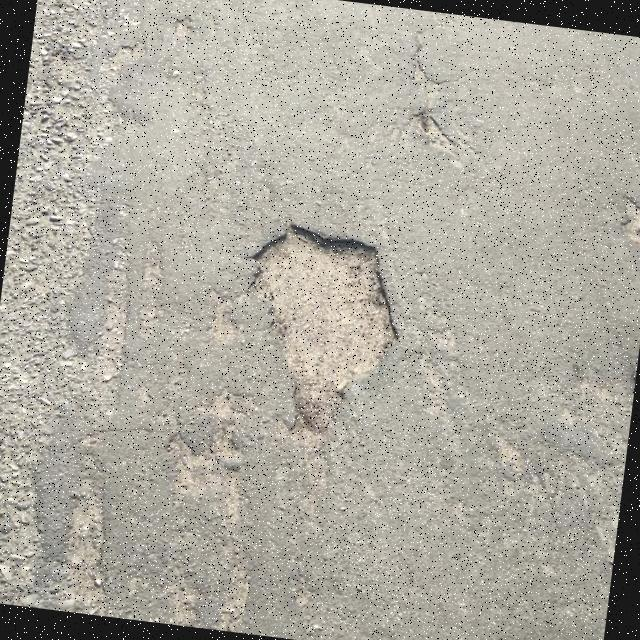Pothole: (251, 225, 396, 436)
